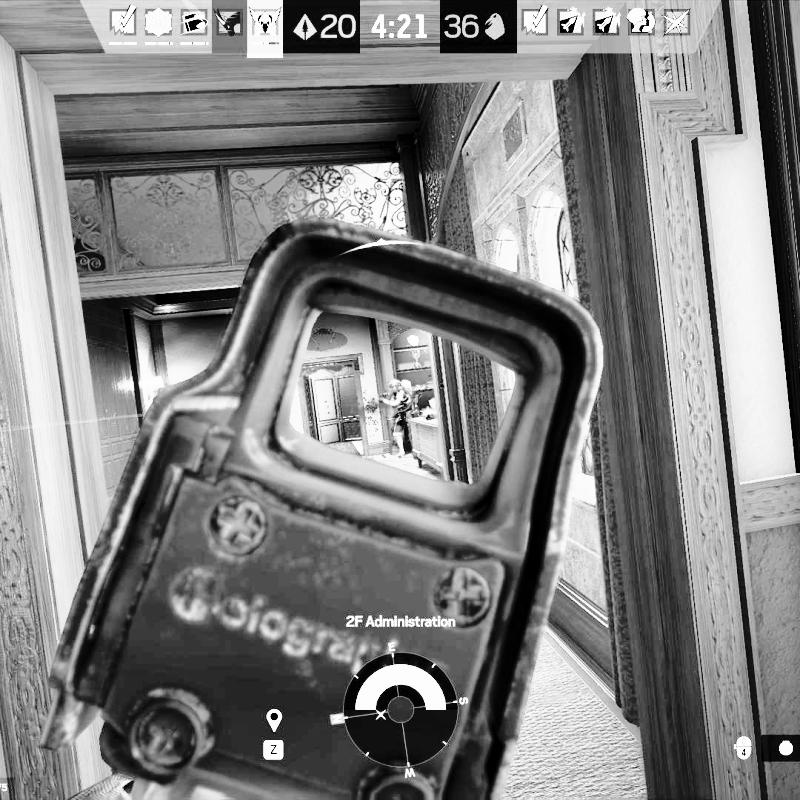Character: (378, 378, 419, 457)
Head: (387, 378, 402, 390)
